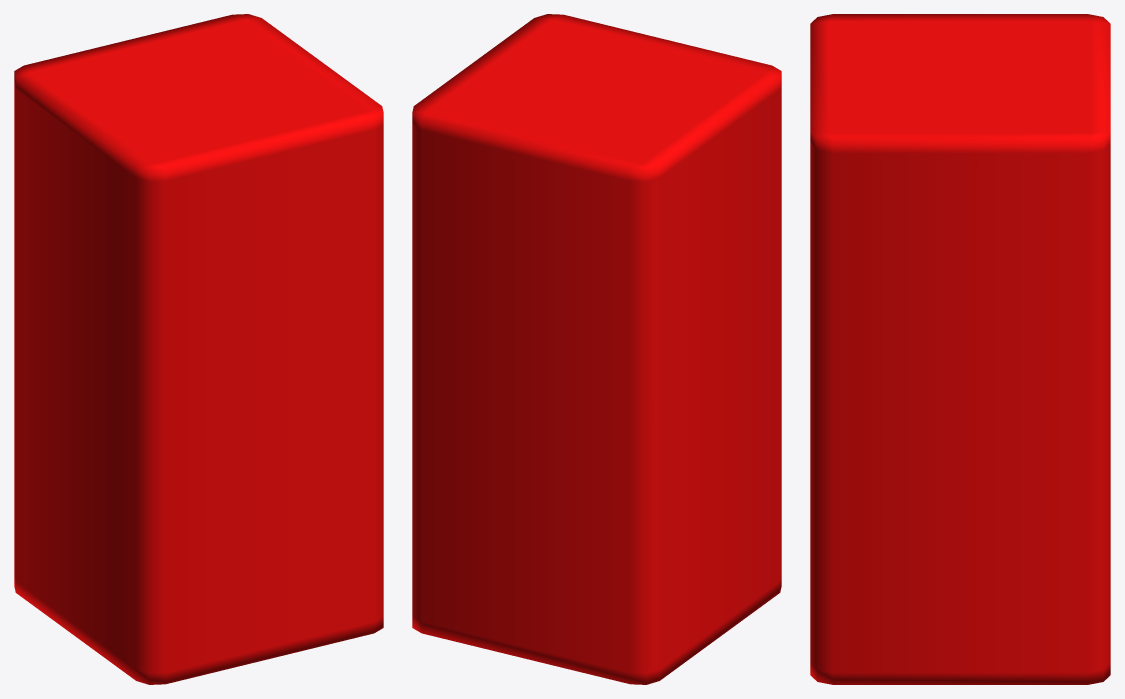
File: wooden_block_1x2_01.FBX
3 views of the same model, side by side, from view 1: azimuth 30°, elevation 25°; view 2: azimuth 150°, elevation 25°; view 3: azimuth 270°, elevation 25° (orthographic). The views are drawn at different scales.
Visible parts, largest first — view 1: wooden_block_1x2_01; view 2: wooden_block_1x2_01; view 3: wooden_block_1x2_01.
Part boxes in pixels (bbox=[...]): wooden_block_1x2_01: bbox=[14, 14, 383, 684]; wooden_block_1x2_01: bbox=[412, 14, 781, 684]; wooden_block_1x2_01: bbox=[810, 14, 1110, 684].
Bounding box in the file's own units: 196 × 392 × 196.
